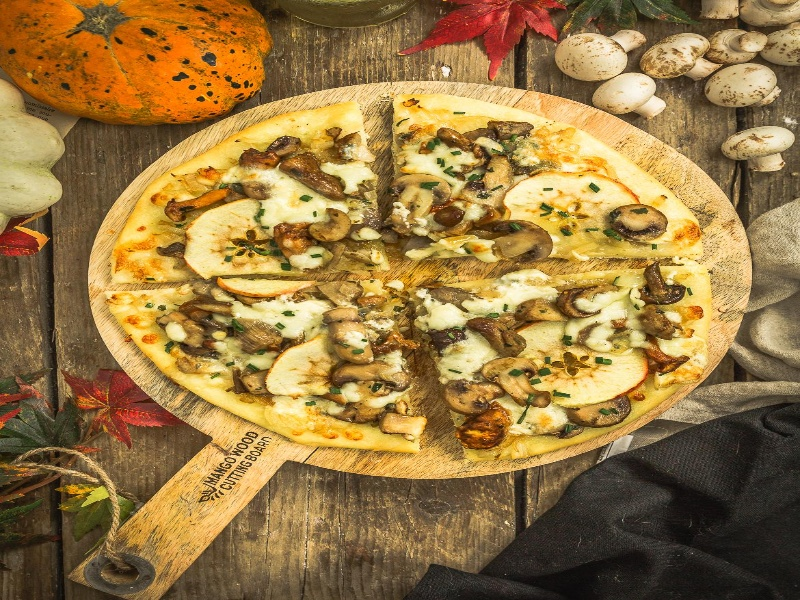champignon: (478, 354, 560, 413), (486, 213, 562, 268)
